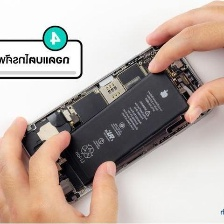phone: (14, 35, 218, 209)
